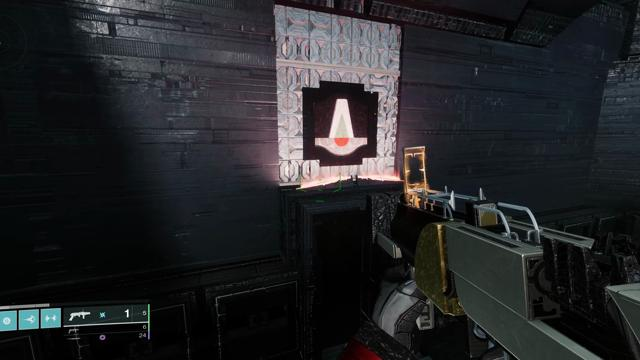enter: (313, 95, 368, 156)
